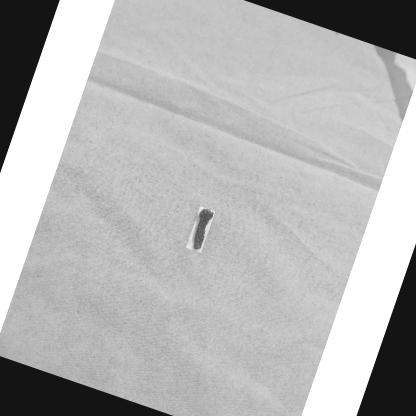sedang: (191, 209, 214, 252)
